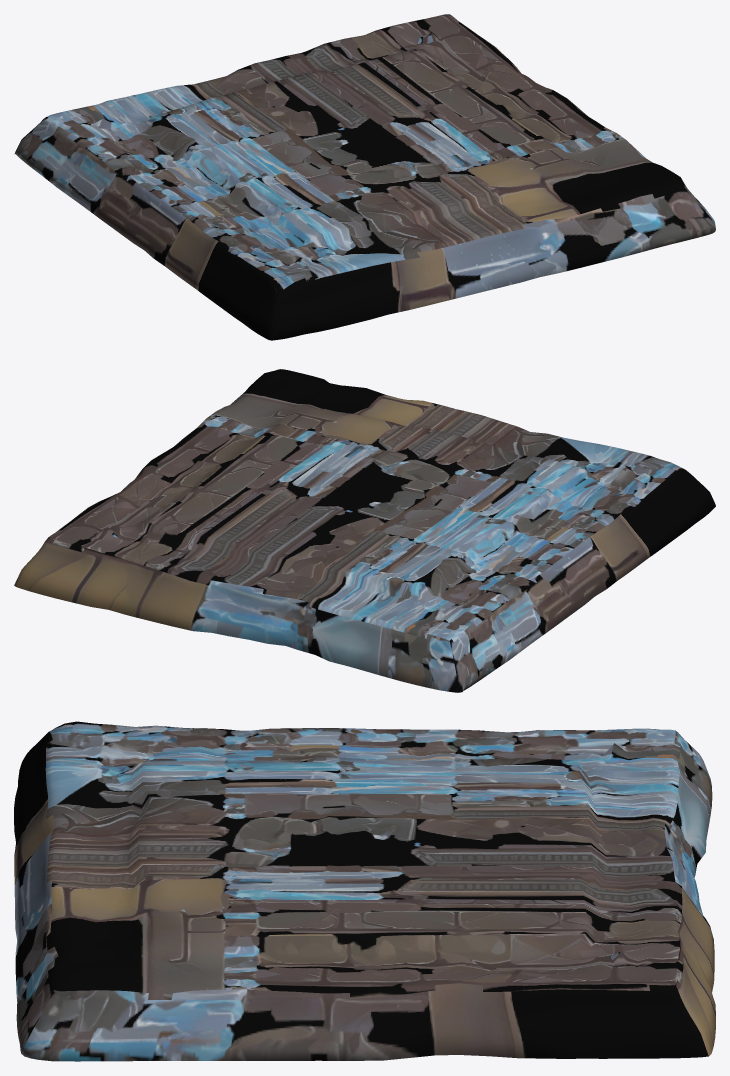
File: PressurePlate.fbx
The picture shows the model from 3 angles, top to bottom: view 1: azimuth 30°, elevation 25°; view 2: azimuth 150°, elevation 25°; view 3: azimuth 270°, elevation 25°; orthographic projection. The views are drawn at different scales.
Parts seen in each view (by area): view 1: PressurePlate; view 2: PressurePlate; view 3: PressurePlate.
Boxes of the visible parts, <box> form: PressurePlate: <box>14,14,715,340</box>; PressurePlate: <box>14,369,715,692</box>; PressurePlate: <box>14,721,715,1061</box>.
Size of the model in its own units: 431 by 44.62 by 433.
